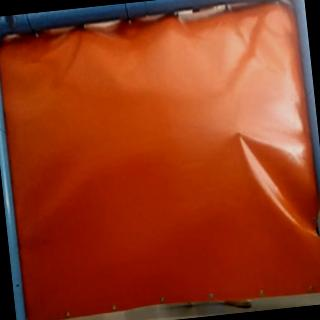Hit-hRxx: (230, 126, 248, 142)
